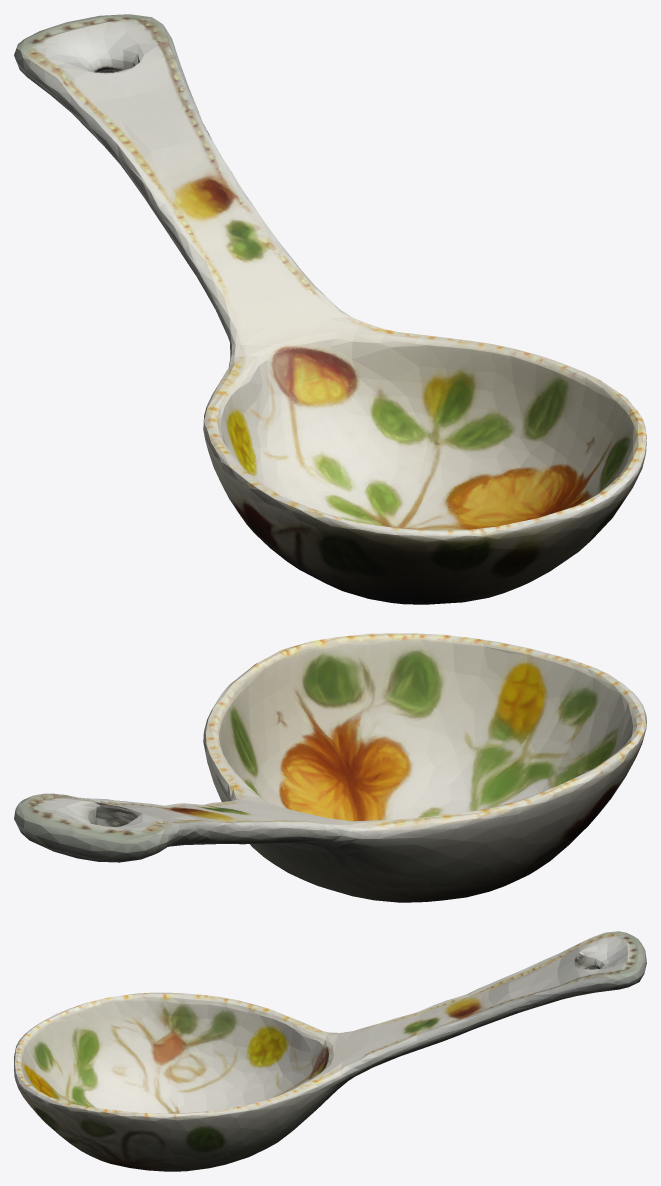
Rendered from porcelain-ladle-rustic.jpeg.glb.
3 views of the same model, one above another, from view 1: azimuth 30°, elevation 25°; view 2: azimuth 150°, elevation 25°; view 3: azimuth 270°, elevation 25° (orthographic). The views are drawn at different scales.
Parts seen in each view (by area): view 1: world; view 2: world; view 3: world.
Boxes of the visible parts, left/top/right/bottom form: world: left=14, top=14, right=646, bottom=604; world: left=14, top=633, right=646, bottom=902; world: left=14, top=931, right=646, bottom=1171.
Bounding box in the file's own units: 0.4614 × 0.3528 × 1.
1 material, 1 textured.
